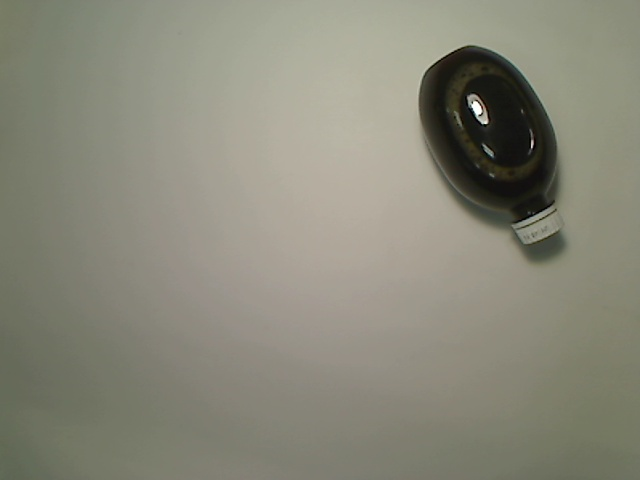plast_bottle: (415, 43, 566, 250)
